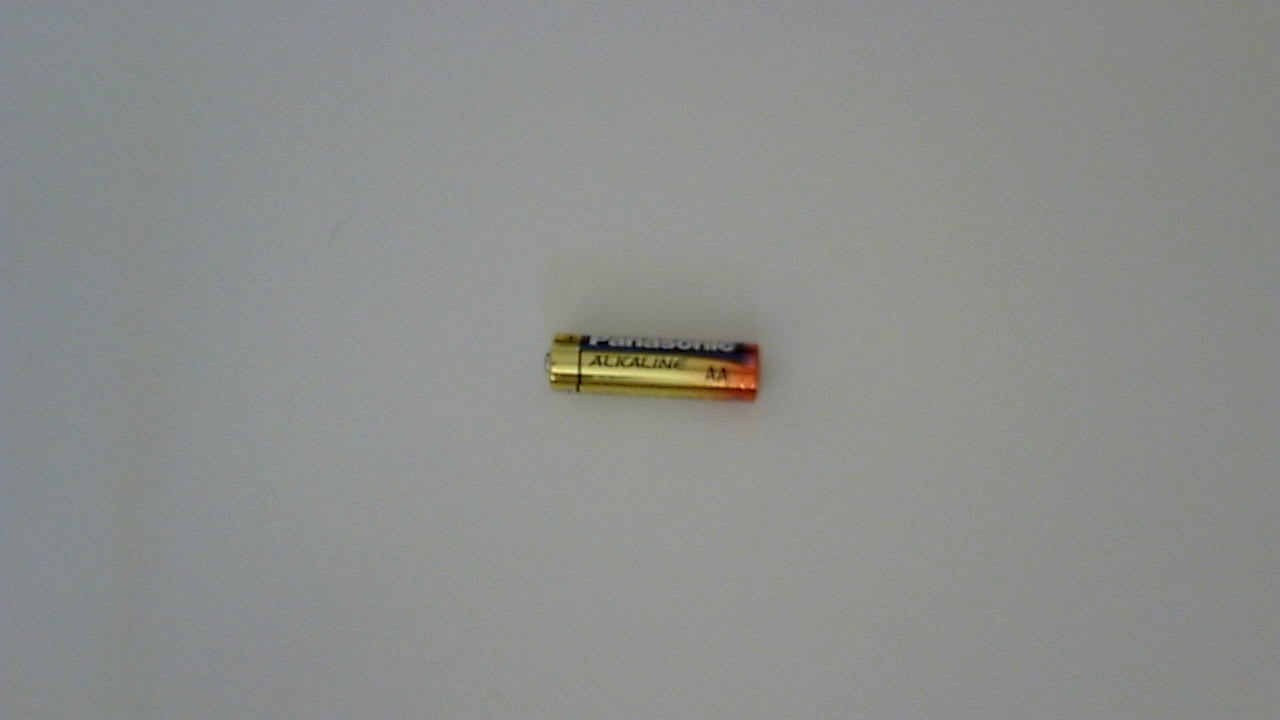Battery: (544, 332, 770, 417)
